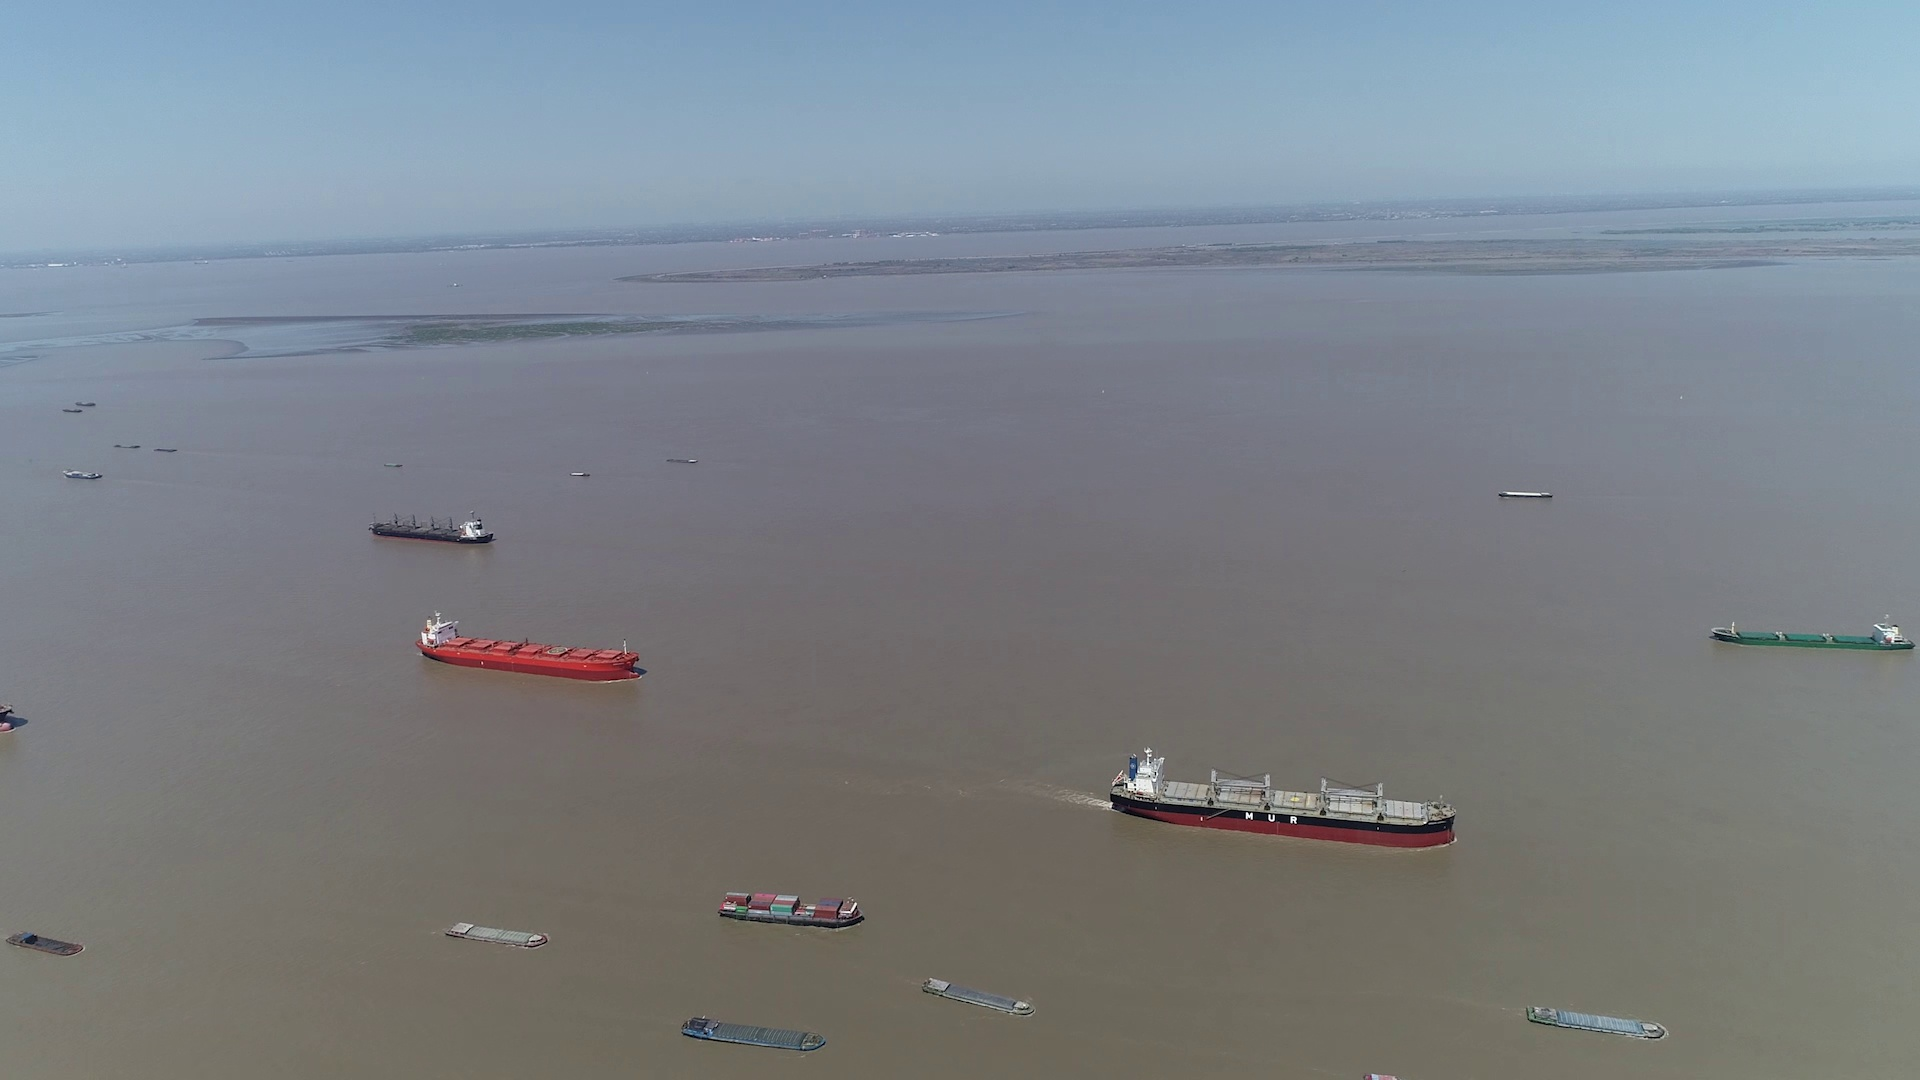ship: (1109, 750, 1458, 847), (414, 611, 642, 679), (1712, 620, 1917, 651), (717, 891, 865, 928), (682, 1015, 824, 1054), (1527, 1006, 1668, 1040), (924, 977, 1036, 1017), (369, 512, 495, 545), (444, 920, 547, 949), (11, 928, 83, 956), (1498, 489, 1553, 498), (61, 468, 102, 480)
